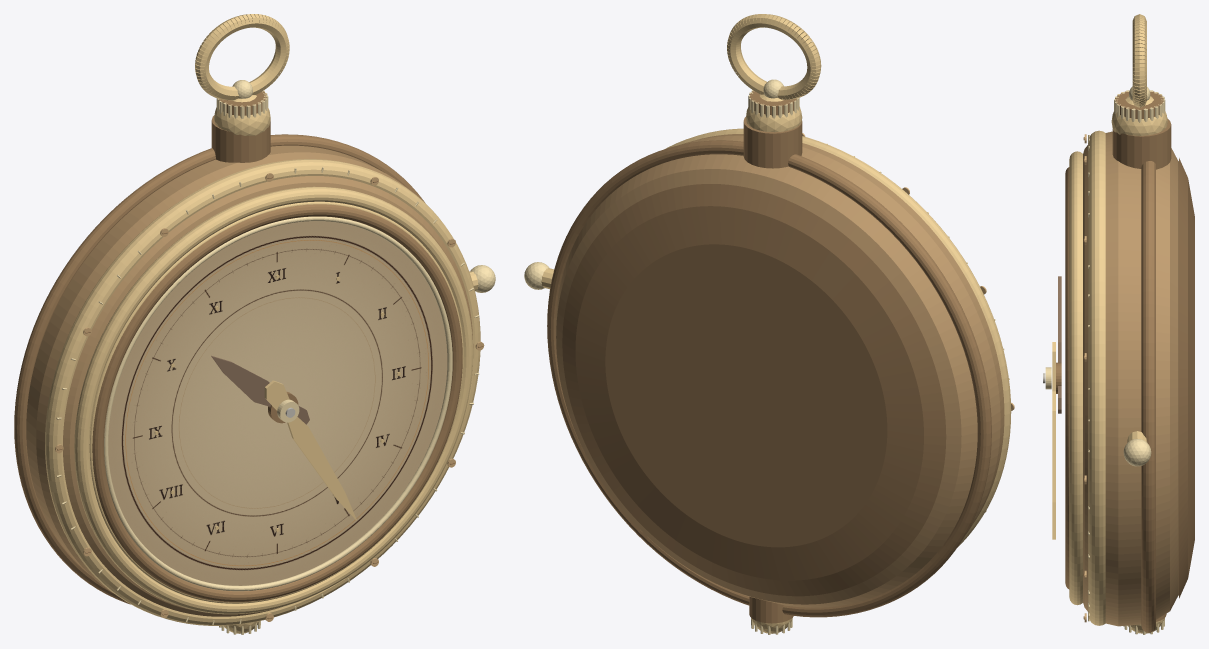
File: reloj_steampunk_3d.glb
The picture shows the model from 3 angles, left to right: view 1: azimuth 30°, elevation 25°; view 2: azimuth 150°, elevation 25°; view 3: azimuth 270°, elevation 25°; orthographic projection.
Visible parts, largest first — view 1: Esfera_numeros_romanos, oro_pulido, oro_oscuro, caja_bronce, oro_claro, MinuteHand, HourHand, tornillos; view 2: oro_oscuro, caja_bronce, oro_pulido, oro_claro; view 3: caja_bronce, oro_oscuro, oro_pulido, oro_claro, MinuteHand, HourHand.
Part boxes in pixels (box(x1,y1,x2,y2)): Esfera_numeros_romanos: box(108, 221, 447, 585); oro_pulido: box(45, 14, 480, 633); oro_oscuro: box(14, 91, 483, 618); caja_bronce: box(26, 145, 473, 616); oro_claro: box(56, 80, 495, 634); MinuteHand: box(264, 380, 356, 520); HourHand: box(211, 355, 309, 424); tornillos: box(55, 173, 484, 621); oro_oscuro: box(547, 90, 991, 623); caja_bronce: box(555, 134, 1004, 607); oro_pulido: box(541, 14, 1011, 633); oro_claro: box(524, 79, 1009, 634); caja_bronce: box(1083, 131, 1178, 626); oro_oscuro: box(1056, 91, 1194, 632); oro_pulido: box(1069, 14, 1167, 633); oro_claro: box(1045, 86, 1165, 634); MinuteHand: box(1052, 342, 1055, 539); HourHand: box(1058, 276, 1061, 413).
Bounding box in the file's own units: 2.4 × 3 × 0.674.
8 materials, 1 textured.
